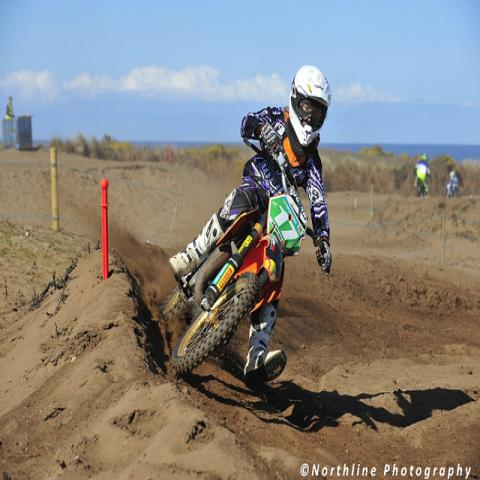motorcycle: (160, 126, 327, 380), (415, 178, 430, 197), (442, 185, 462, 198)
